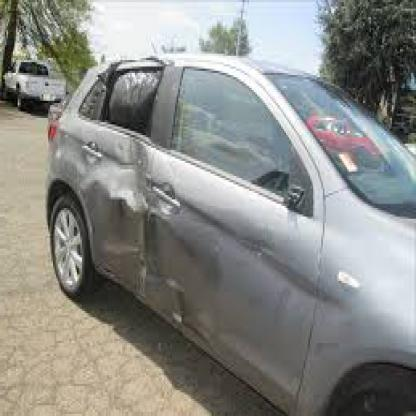dent: (114, 162, 169, 275)
